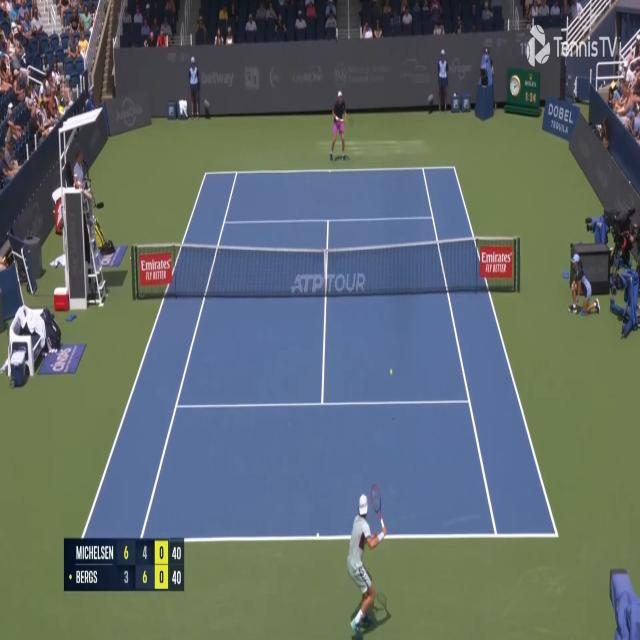tennis-player: (345, 482, 394, 637), (329, 88, 349, 163)
